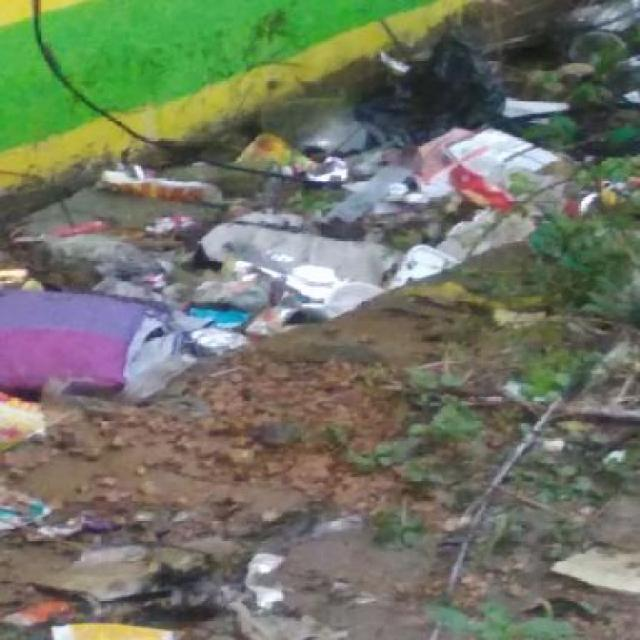garbage: (0, 174, 424, 422), (14, 503, 640, 639), (312, 16, 640, 249)
